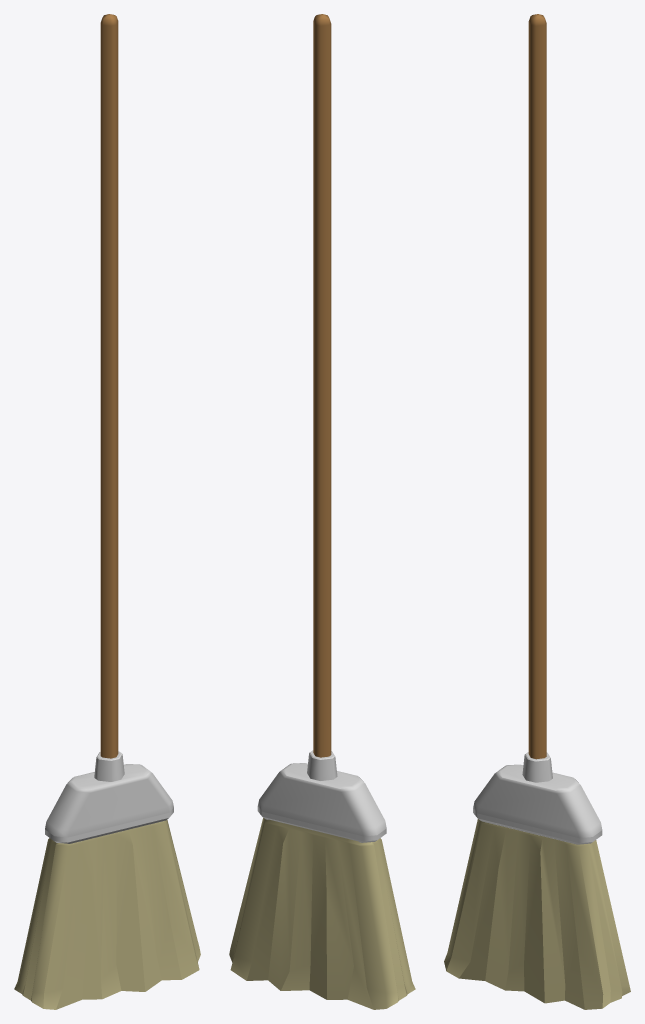
The model's file is Broom.fbx.
3 views of the same model, side by side, from view 1: azimuth 30°, elevation 25°; view 2: azimuth 150°, elevation 25°; view 3: azimuth 330°, elevation 25° (orthographic).
Visible parts, largest first — view 1: polySurface44; view 2: polySurface44; view 3: polySurface44.
Part boxes in pixels (<box>): polySurface44: <box>14,14,200,1009</box>; polySurface44: <box>229,14,415,1009</box>; polySurface44: <box>444,14,630,1009</box>.
Bounding box in the file's own units: 114 × 610 × 34.55.
